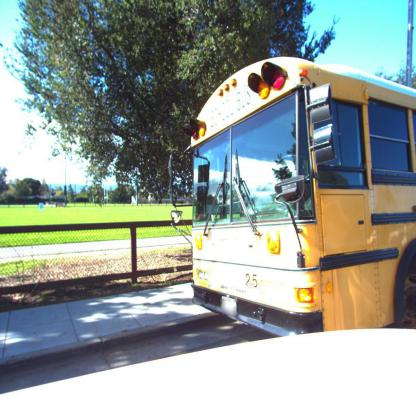bus: (182, 44, 412, 336)
